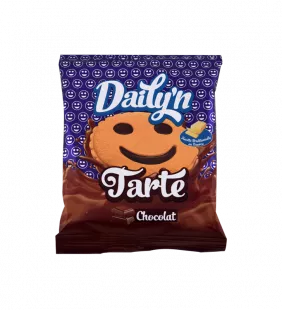Promotion: (46, 45, 236, 260)
